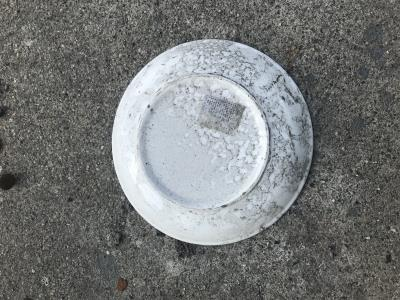plate: (109, 36, 326, 253)
